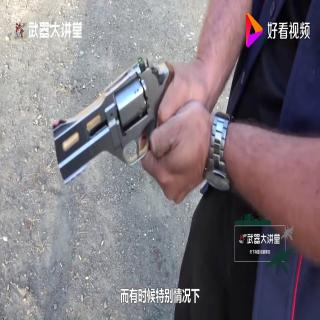gun: (47, 66, 177, 198)
